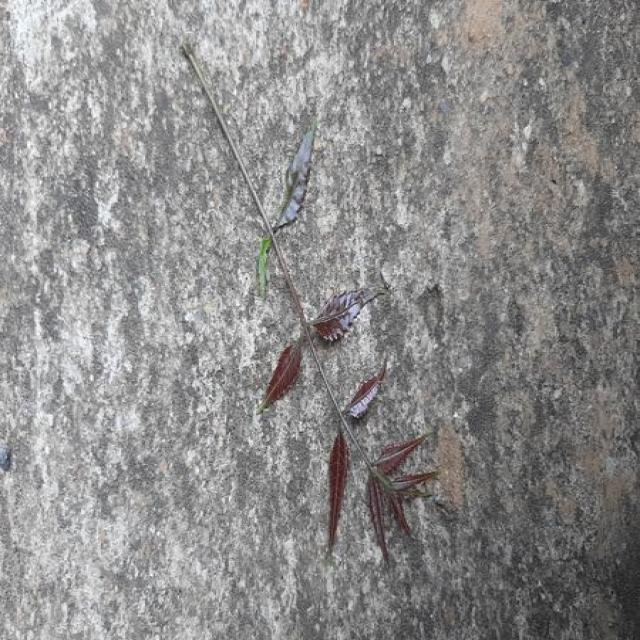neem: (258, 289, 378, 412), (368, 435, 437, 562), (277, 125, 314, 228), (328, 431, 348, 552), (343, 362, 384, 418)
